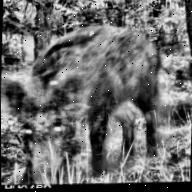boar: (8, 6, 171, 183)
